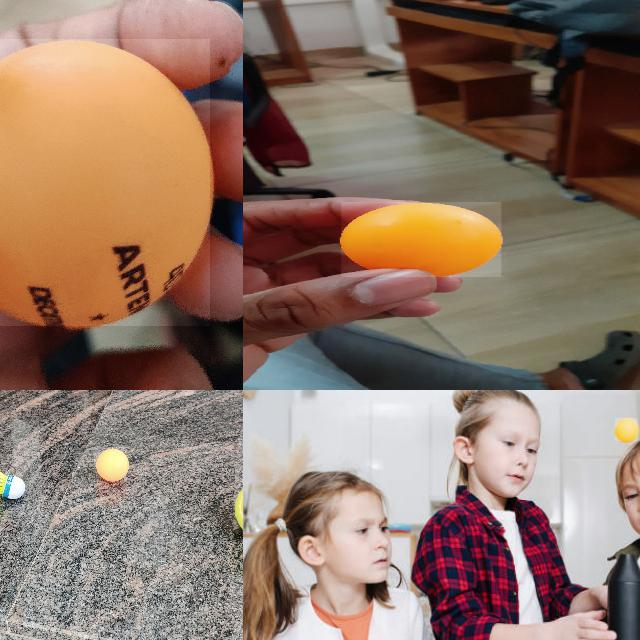ping-pong-ball: (0, 38, 212, 328), (341, 202, 503, 278), (94, 447, 128, 483), (615, 418, 639, 442)
